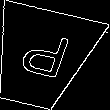P_S: (11, 29, 71, 87)
